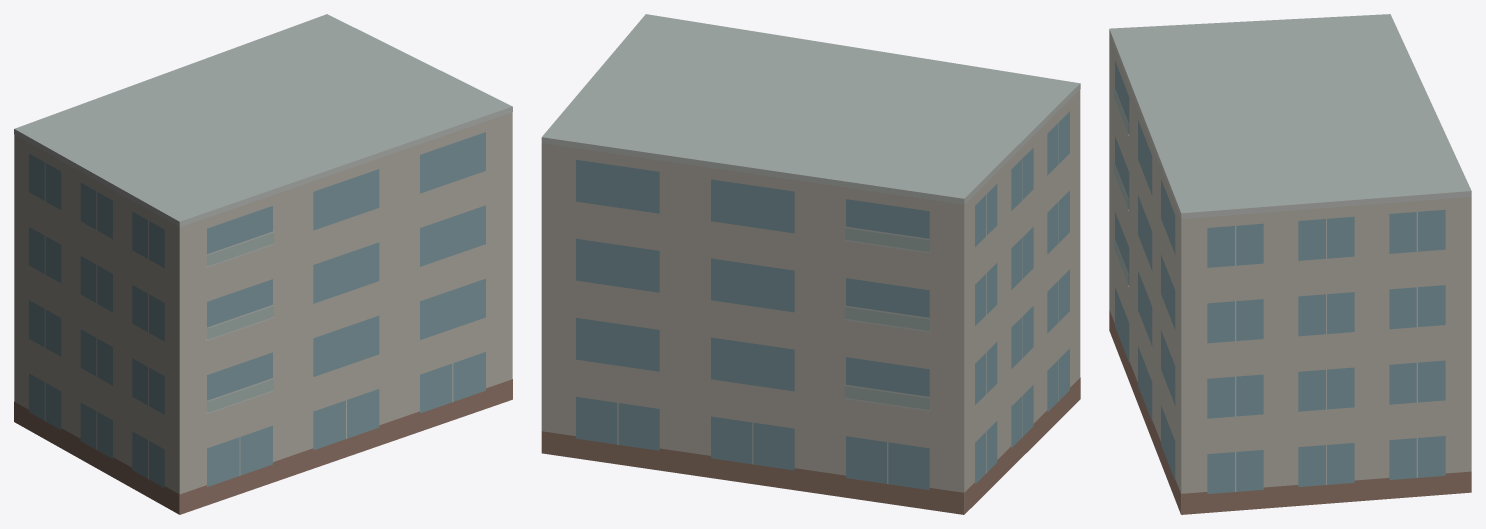
File: survey-upis-32758439.glb
3 views of the same model, side by side, from view 1: azimuth 30°, elevation 25°; view 2: azimuth 150°, elevation 25°; view 3: azimuth 270°, elevation 25° (orthographic). The views are drawn at different scales.
Visible parts, largest first — view 1: survey-upis-32758439.tmp; view 2: survey-upis-32758439.tmp; view 3: survey-upis-32758439.tmp.
Part boxes in pixels (x1,y1,x2,y2): survey-upis-32758439.tmp: (14,14,512,514); survey-upis-32758439.tmp: (541,14,1080,514); survey-upis-32758439.tmp: (1109,14,1471,514).
Size of the model in its own units: 18.22 by 12.85 by 14.
